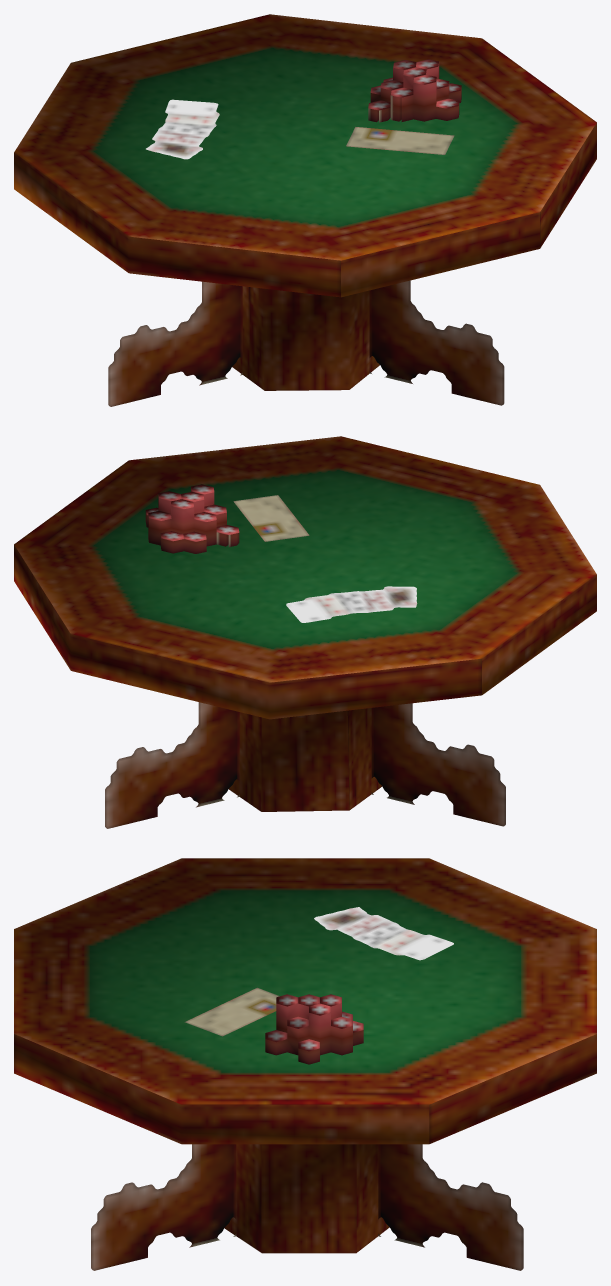
Rendered from pokertable1.obj.
The picture shows the model from 3 angles, top to bottom: view 1: azimuth 30°, elevation 25°; view 2: azimuth 150°, elevation 25°; view 3: azimuth 270°, elevation 25°; orthographic projection. The views are drawn at different scales.
Parts seen in each view (by area): view 1: pokertab, decor; view 2: pokertab, decor; view 3: pokertab, decor.
Part boxes in pixels (x1,y1,x2,y2): pokertab: (14,14,596,406); decor: (146,59,461,159); pokertab: (14,436,596,828); decor: (145,484,417,622); pokertab: (14,858,596,1270); decor: (184,907,453,1064).
Size of the model in its own units: 80 by 42 by 80.
